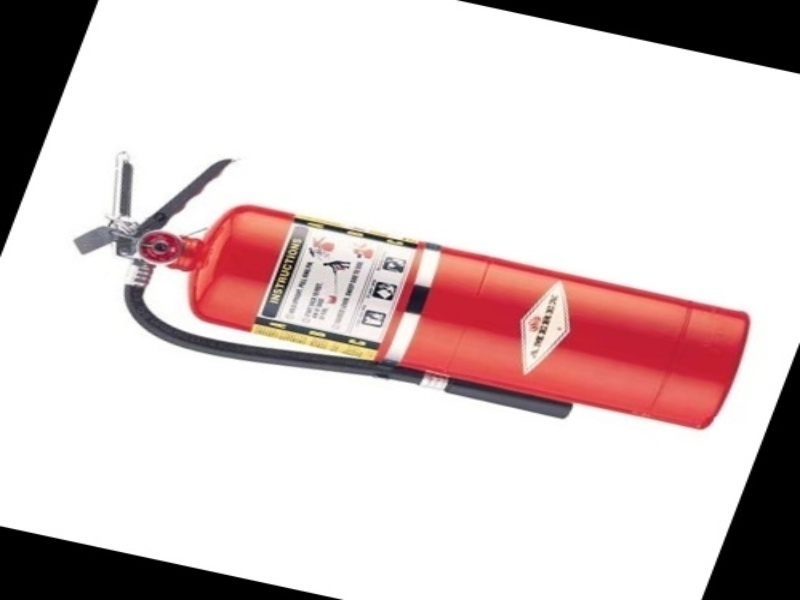fire_extinguisher: (43, 139, 753, 440)
